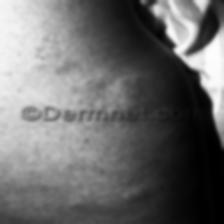Unclassified: (112, 132, 200, 206), (89, 78, 187, 105)
